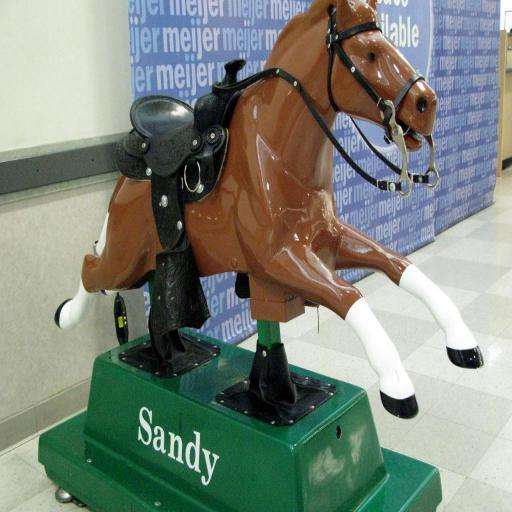horse: (53, 0, 486, 420)
